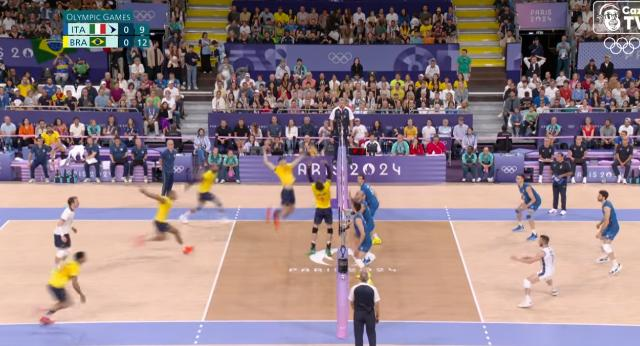Levantador: (308, 167, 337, 259), (357, 174, 378, 214)
Libero: (523, 234, 557, 306), (48, 196, 82, 260)
bola: (308, 142, 324, 162)
